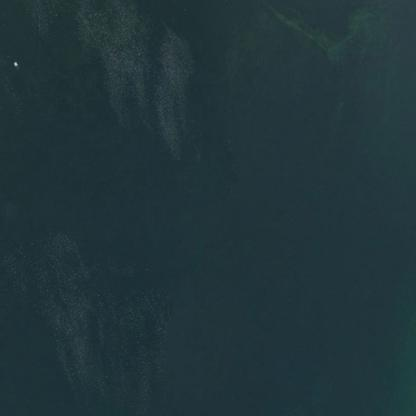ship: (12, 60, 18, 68)
